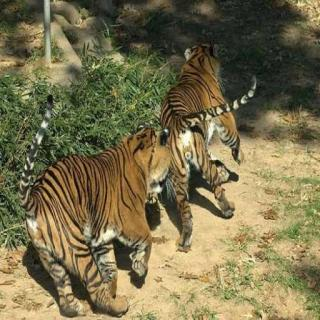Tiger: (9, 112, 181, 320), (154, 32, 257, 196)
